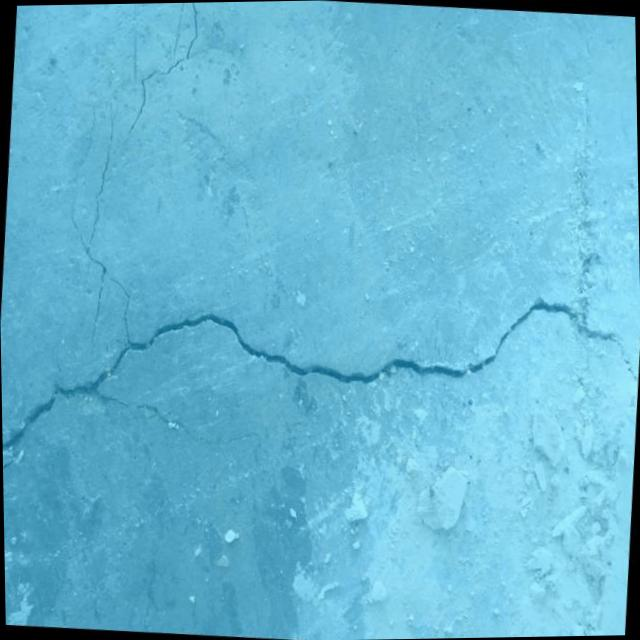crack: (0, 0, 640, 518)
